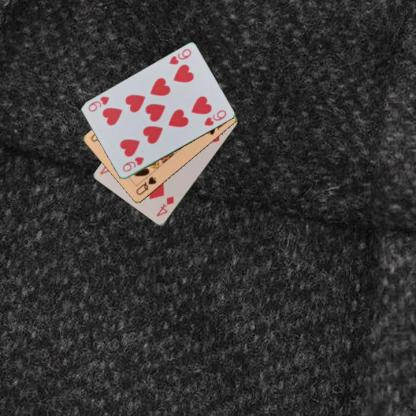4d: (154, 193, 175, 218)
9h: (166, 46, 192, 66), (119, 154, 146, 173)
Qs: (133, 174, 158, 196)
